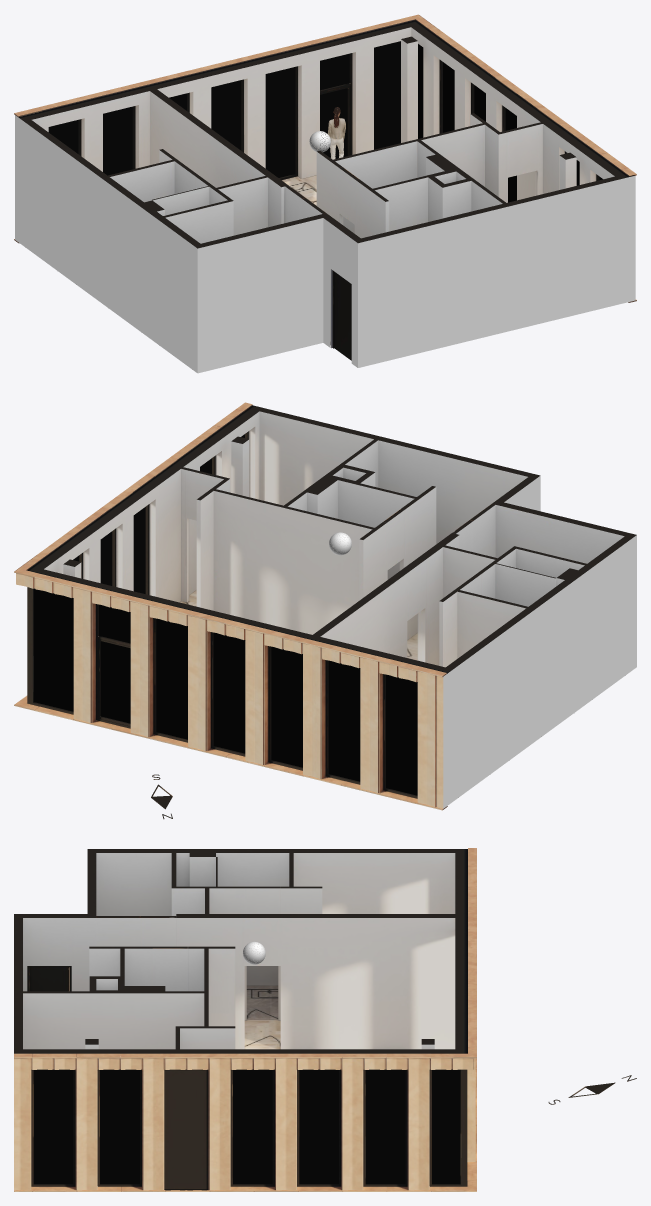
The picture shows the model from 3 angles, top to bottom: view 1: azimuth 30°, elevation 25°; view 2: azimuth 150°, elevation 25°; view 3: azimuth 270°, elevation 25°; orthographic projection. The views are drawn at different scales.
Visible parts, largest first — view 1: NO BAKE OUTER WALLS005, apt46, GLASS; view 2: apt46, GLASS, NO BAKE OUTER WALLS005; view 3: apt46, GLASS.
Part boxes in pixels (x1=…): NO BAKE OUTER WALLS005: x1=15, y1=115, x2=635, y2=373; apt46: x1=14, y1=14, x2=636, y2=360; GLASS: x1=48, y1=41, x2=602, y2=202; apt46: x1=14, y1=402, x2=636, y2=819; GLASS: x1=34, y1=434, x2=417, y2=795; NO BAKE OUTER WALLS005: x1=443, y1=476, x2=636, y2=808; apt46: x1=14, y1=848, x2=636, y2=1191; GLASS: x1=33, y1=1069, x2=460, y2=1185.
Bounding box in the file's own units: 11.19 × 3.59 × 14.07.
4 materials, 1 textured.
